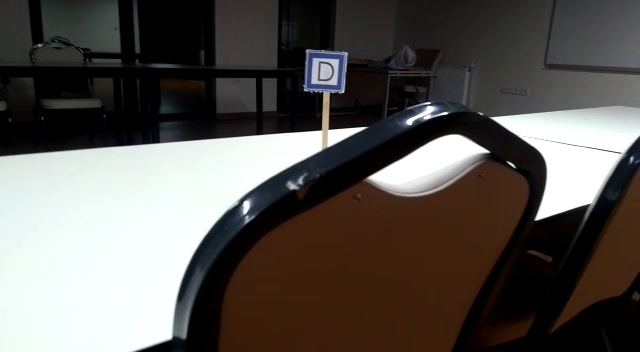durak: (304, 52, 347, 91)
